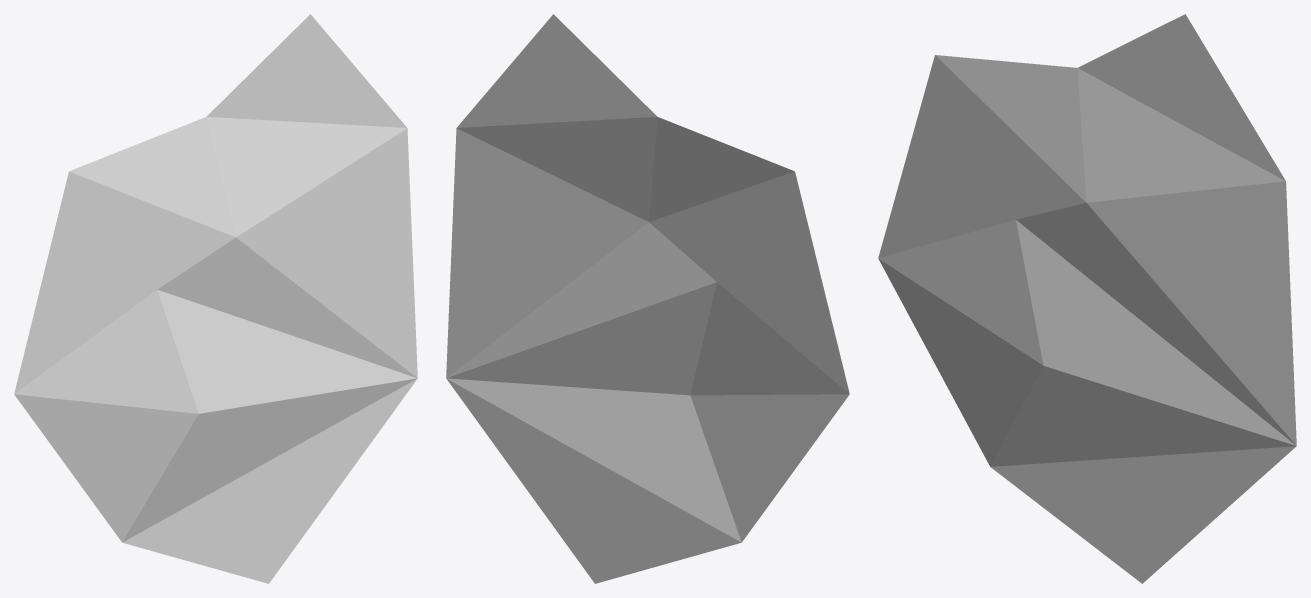
Rendered from SM_Env_Ivy_04.glb.
3 views of the same model, side by side, from view 1: azimuth 30°, elevation 25°; view 2: azimuth 150°, elevation 25°; view 3: azimuth 330°, elevation 25° (orthographic). The views are drawn at different scales.
Parts seen in each view (by area): view 1: SM_Env_Ivy_04; view 2: SM_Env_Ivy_04; view 3: SM_Env_Ivy_04.
Boxes of the visible parts, left/top/right/bottom form: SM_Env_Ivy_04: left=14, top=14, right=417, bottom=583; SM_Env_Ivy_04: left=446, top=14, right=849, bottom=583; SM_Env_Ivy_04: left=878, top=14, right=1296, bottom=583.
Size of the model in its own units: 1.17 by 1.55 by 0.0633.
1 material, 1 textured.
